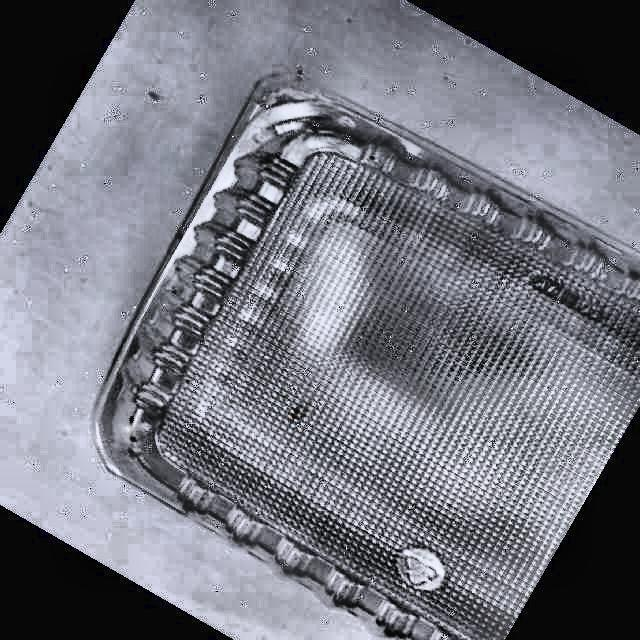plastic: (96, 86, 640, 640)
